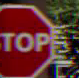Stop: (2, 4, 52, 73)
